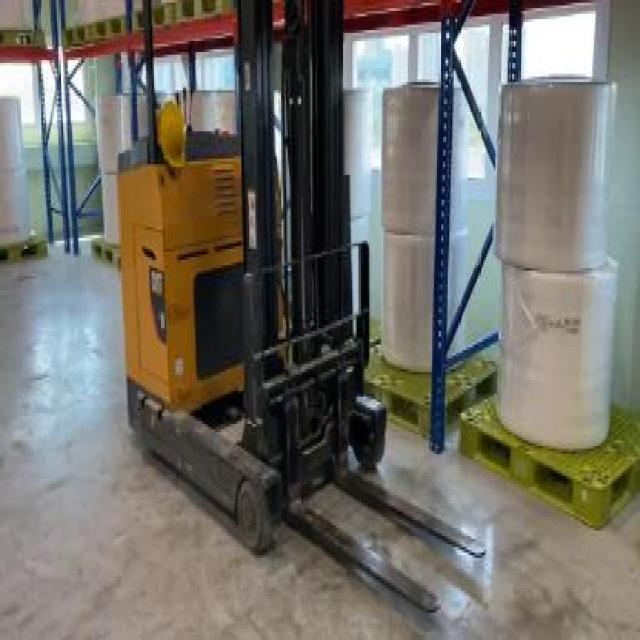robot: (119, 3, 486, 637)
white_roll: (476, 63, 632, 514), (363, 74, 486, 438), (83, 85, 249, 298), (0, 90, 40, 268)
